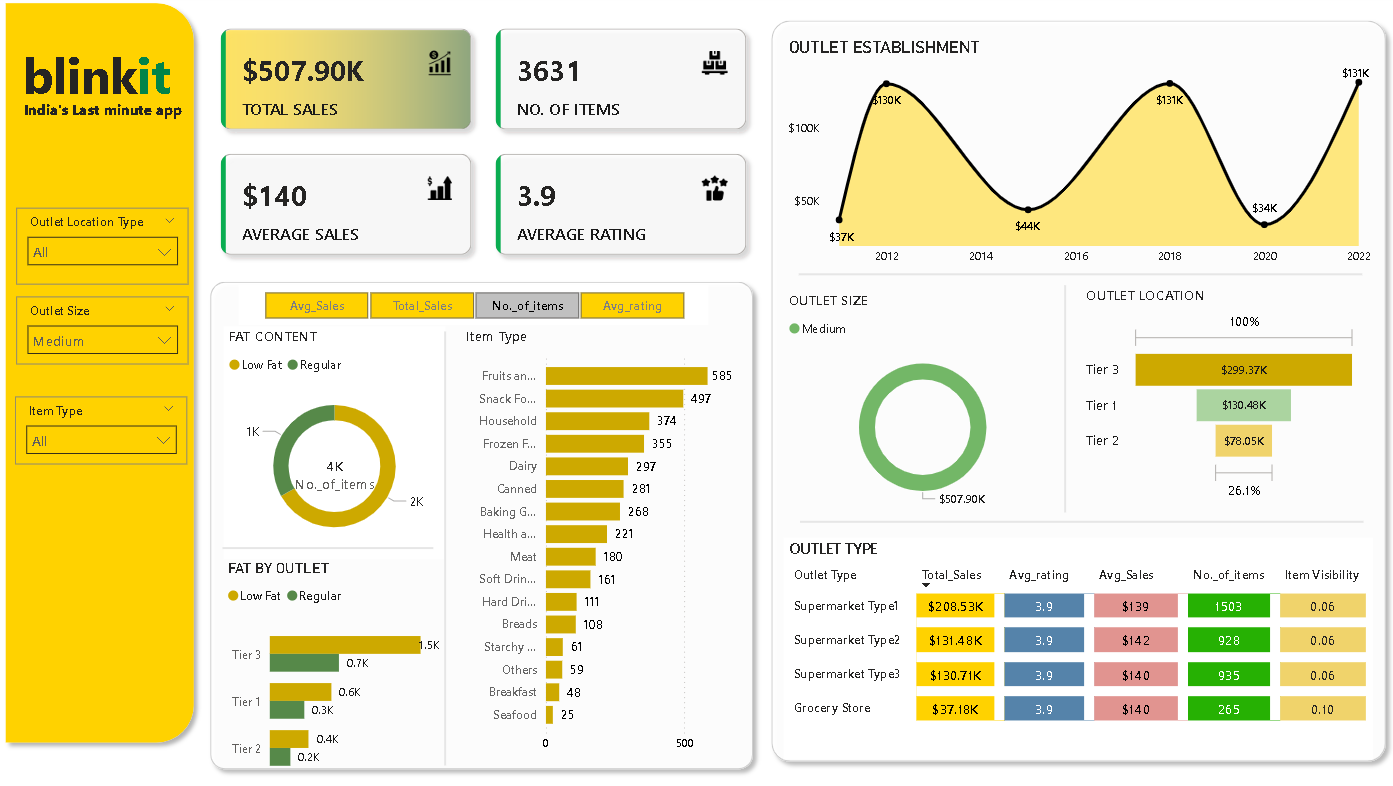

Layout of this report page (visuals, bound fields, positions):
{"tool":"powerbi","page":{"name":"Page 1","canvas":[1400,800],"ordinal":0},"visuals":[{"type":"shape","box":[16.4,0,204.5,749.8],"z":0},{"type":"textbox","box":[24.5,42.3,181.3,90],"z":1000},{"type":"textbox","box":[31.4,99.5,181.3,32.7],"z":2000},{"type":"cardVisual","fields":{"Data":["BlinkIT Grocery Data.Total_Sales","BlinkIT Grocery Data.No._of_items","BlinkIT Grocery Data.Avg_Sales","BlinkIT Grocery Data.Avg_rating"]},"box":[220.9,17.7,554.9,259],"z":3000},{"type":"shape","box":[219.5,275.4,554.9,500.3],"z":4000},{"type":"donutChart","title":"FAT CONTENT","fields":{"Y":["BlinkIT Grocery Data.No._of_items"],"Category":["BlinkIT Grocery Data.Item Fat Content"]},"box":[241.3,328.6,219.5,230.4],"z":5000},{"type":"slicer","fields":{"Values":["Metrics.Metrics"]},"box":[256.3,287.7,464.9,39.5],"z":6000},{"type":"cardVisual","fields":{"Data":["BlinkIT Grocery Data.No._of_items"]},"box":[291.8,440.4,118.6,61.4],"z":7000},{"type":"clusteredBarChart","title":"FAT BY OUTLET","fields":{"Y":["BlinkIT Grocery Data.No._of_items"],"Category":["BlinkIT Grocery Data.Outlet Location Type"],"Series":["BlinkIT Grocery Data.Item Fat Content"]},"box":[239.9,559,219.5,230.4],"z":8000},{"type":"shape","box":[239.9,538.5,208.6,20.5],"z":9000},{"type":"shape","box":[445.8,334,30,429.5],"z":10000},{"type":"barChart","title":"Item Type","fields":{"Y":["BlinkIT Grocery Data.No._of_items"],"Category":["BlinkIT Grocery Data.Item Type"]},"box":[475.8,328.6,283.6,429.5],"z":11000},{"type":"shape","box":[774.4,17.7,625.8,751.2],"z":12000},{"type":"lineChart","title":"OUTLET ESTABLISHMENT","fields":{"Y":["BlinkIT Grocery Data.Total_Sales"],"Category":["BlinkIT Grocery Data.Outlet Establishment Year"]},"box":[794.8,42.3,586.2,234.5],"z":13000},{"type":"shape","box":[809.8,260.4,557.6,32.7],"z":14000},{"type":"donutChart","title":"OUTLET SIZE","fields":{"Y":["BlinkIT Grocery Data.Total_Sales"],"Category":["BlinkIT Grocery Data.Outlet Size"]},"box":[794.8,293.1,275.4,225],"z":15000},{"type":"funnel","title":"OUTLET LOCATION","fields":{"Y":["BlinkIT Grocery Data.Total_Sales"],"Category":["BlinkIT Grocery Data.Outlet Location Type"]},"box":[1089.3,287.7,278.1,219.5],"z":16000},{"type":"shape","box":[1059.3,287.7,30,225],"z":17000},{"type":"shape","box":[811.2,505.8,557.6,32.7],"z":18000},{"type":"pivotTable","title":"OUTLET TYPE","fields":{"Rows":["BlinkIT Grocery Data.Outlet Type"],"Values":["BlinkIT Grocery Data.Total_Sales","BlinkIT Grocery Data.Avg_rating","BlinkIT Grocery Data.Avg_Sales","BlinkIT Grocery Data.No._of_items","Avg(BlinkIT Grocery Data.Item Visibility)"]},"box":[794.8,538.5,583.5,219.5],"z":19000},{"type":"slicer","title":"OUTLET LOCATION","fields":{"Values":["BlinkIT Grocery Data.Outlet Location Type"]},"box":[35.4,211.3,170.4,76.3],"z":20000},{"type":"slicer","title":"OUTLET LOCATION","fields":{"Values":["BlinkIT Grocery Data.Outlet Size"]},"box":[35.4,299.9,170.4,66.8],"z":21000},{"type":"slicer","title":"OUTLET LOCATION","fields":{"Values":["BlinkIT Grocery Data.Item Type"]},"box":[34.1,398.1,170.4,66.8],"z":22000}]}

Visuals, with their boxes in screenshot pixels (x1, y1, x2, y2), scaled from the page's 1400x800 canvas onto the 1393x786 screenshot:
shape: left=16, top=0, right=220, bottom=737
textbox: left=24, top=42, right=205, bottom=130
textbox: left=31, top=98, right=212, bottom=130
cardVisual - BlinkIT Grocery Data.Total_Sales x BlinkIT Grocery Data.No._of_items: left=220, top=17, right=772, bottom=272
shape: left=218, top=271, right=771, bottom=762
"FAT CONTENT" donutChart: left=240, top=323, right=458, bottom=549
slicer - Metrics.Metrics: left=255, top=283, right=718, bottom=321
cardVisual - BlinkIT Grocery Data.No._of_items: left=290, top=433, right=408, bottom=493
"FAT BY OUTLET" clusteredBarChart: left=239, top=549, right=457, bottom=776
shape: left=239, top=529, right=446, bottom=549
shape: left=444, top=328, right=473, bottom=750
"Item Type" barChart: left=473, top=323, right=756, bottom=745
shape: left=771, top=17, right=1392, bottom=755
"OUTLET ESTABLISHMENT" lineChart: left=791, top=42, right=1374, bottom=272
shape: left=806, top=256, right=1361, bottom=288
"OUTLET SIZE" donutChart: left=791, top=288, right=1065, bottom=509
"OUTLET LOCATION" funnel: left=1084, top=283, right=1361, bottom=498
shape: left=1054, top=283, right=1084, bottom=504
shape: left=807, top=497, right=1362, bottom=529
"OUTLET TYPE" pivotTable: left=791, top=529, right=1371, bottom=745
"OUTLET LOCATION" slicer: left=35, top=208, right=205, bottom=283
"OUTLET LOCATION" slicer: left=35, top=295, right=205, bottom=360
"OUTLET LOCATION" slicer: left=34, top=391, right=203, bottom=457
